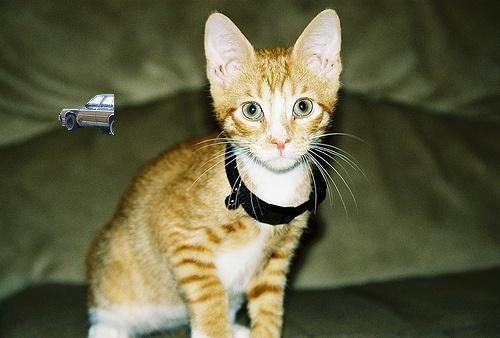tampered: (59, 95, 114, 135)
